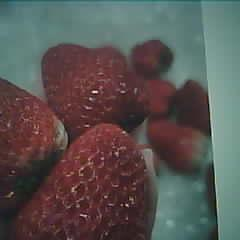straw-ripe: (14, 127, 158, 240)
